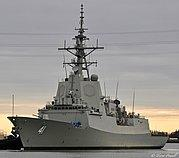MIL_Ship: (4, 25, 169, 150)
